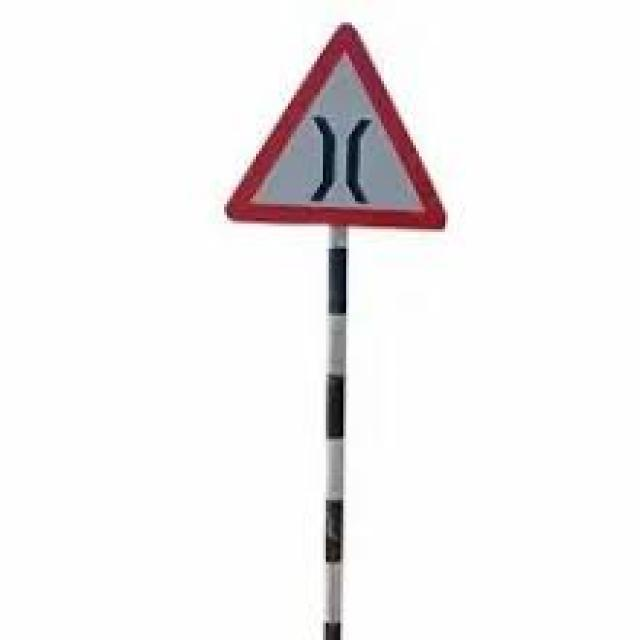narrow bridge ahead: (221, 18, 455, 226)
